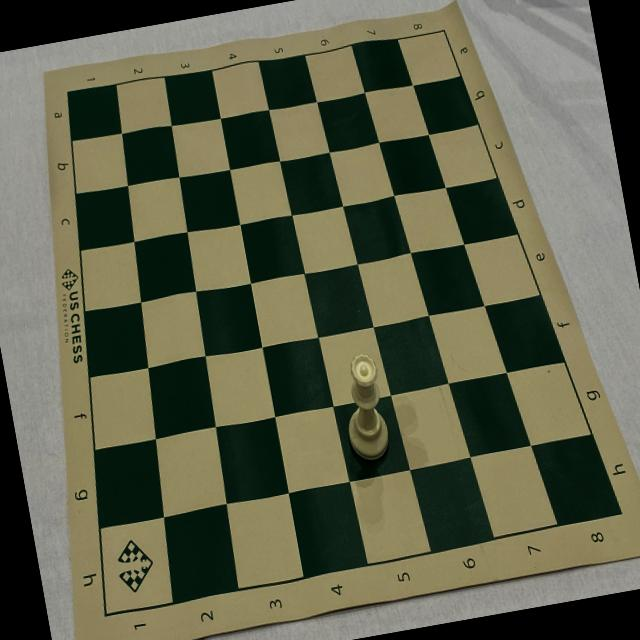white-queen: (334, 348, 394, 466)
